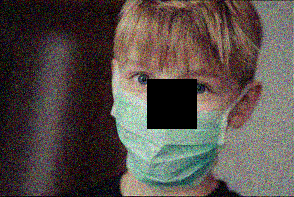with_mask: (113, 57, 230, 182)
